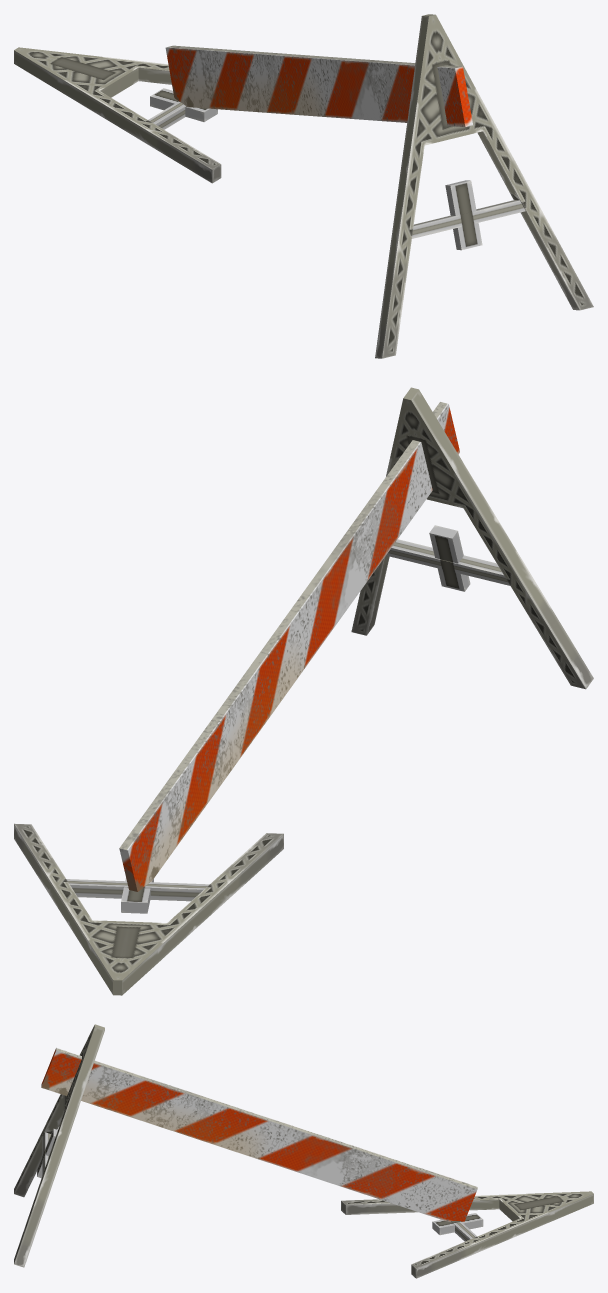
Rendered from trafficBarricade02_B.fbx.
3 views of the same model, one above another, from view 1: azimuth 30°, elevation 25°; view 2: azimuth 150°, elevation 25°; view 3: azimuth 270°, elevation 25° (orthographic). The views are drawn at different scales.
Visible parts, largest first — view 1: trafficBarricade02_B; view 2: trafficBarricade02_B; view 3: trafficBarricade02_B.
Boxes of the visible parts, x1,y1,x2,y2 form: trafficBarricade02_B: [14, 14, 593, 358]; trafficBarricade02_B: [14, 387, 593, 995]; trafficBarricade02_B: [14, 1024, 593, 1278].
Bounding box in the file's own units: 94.9 × 103 × 265.
